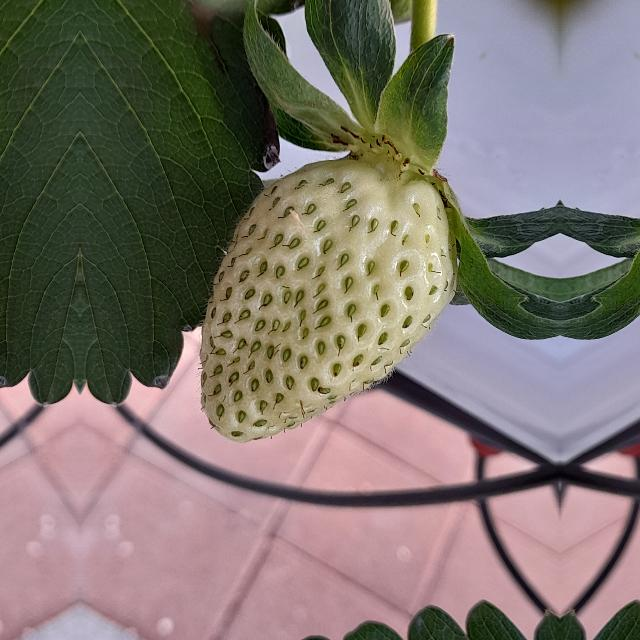Health_25: (192, 155, 460, 443)
